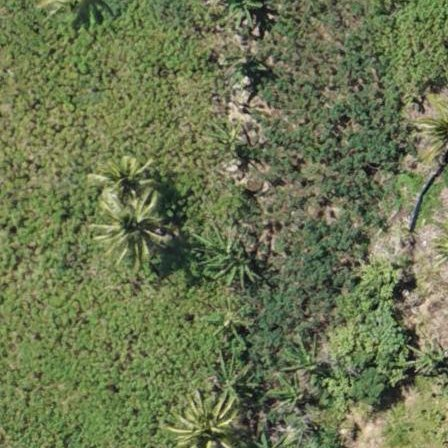palm_tree: (165, 389, 238, 448), (102, 199, 164, 266), (96, 148, 158, 214), (421, 225, 448, 286)
